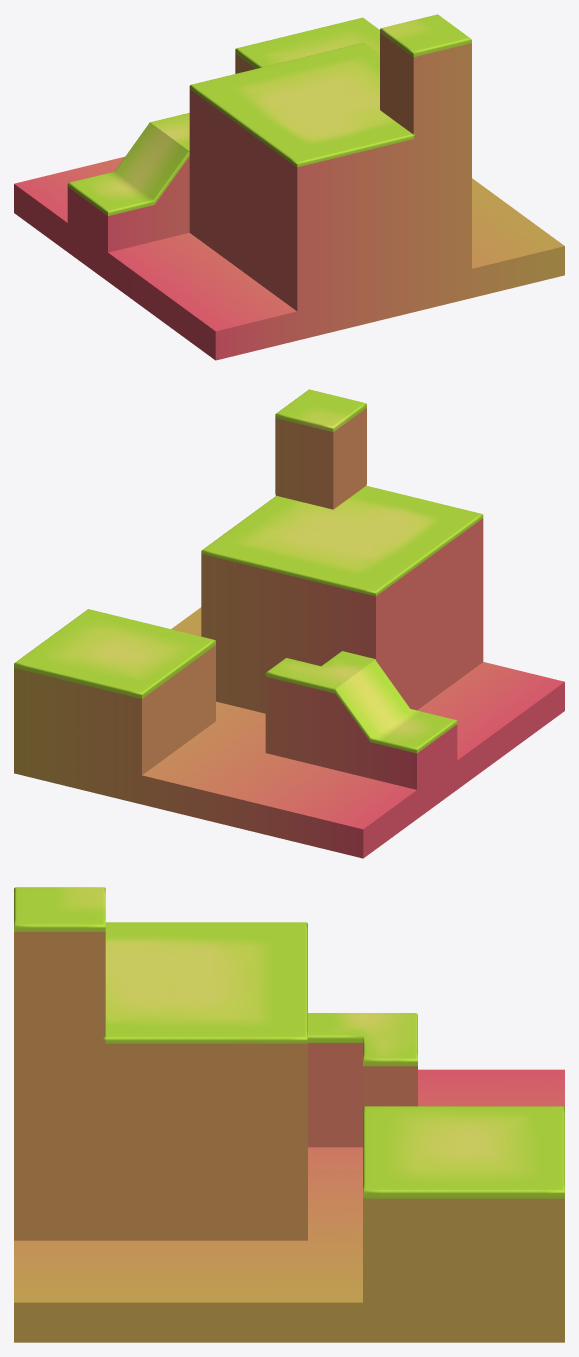
The picture shows the model from 3 angles, top to bottom: view 1: azimuth 30°, elevation 25°; view 2: azimuth 150°, elevation 25°; view 3: azimuth 270°, elevation 25°; orthographic projection. The views are drawn at different scales.
Visible parts, largest first — view 1: 地基; view 2: 地基; view 3: 地基.
Part boxes in pixels (x1,y1,x2,y2): 地基: [14, 14, 564, 360]; 地基: [14, 389, 564, 858]; 地基: [14, 887, 564, 1342].
Size of the model in its own units: 1968 by 1399 by 1968.
